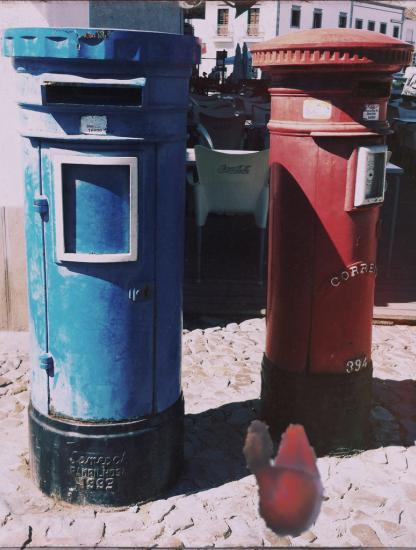Banana: (221, 414, 346, 539)
